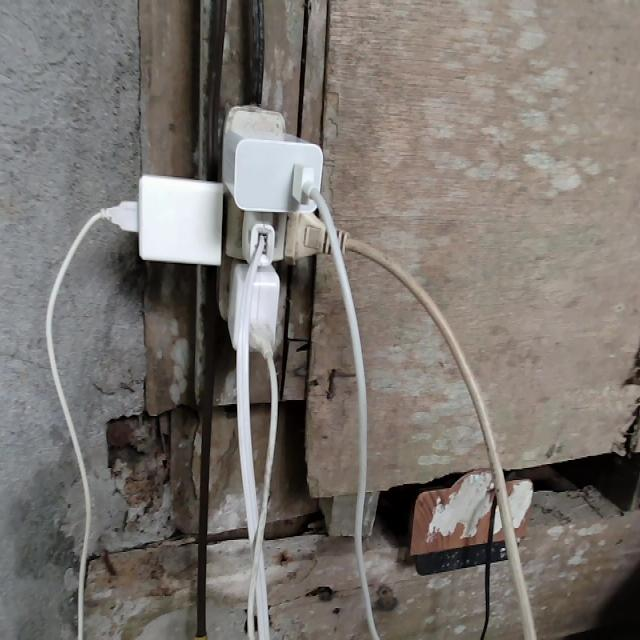-: (106, 106, 342, 354)
